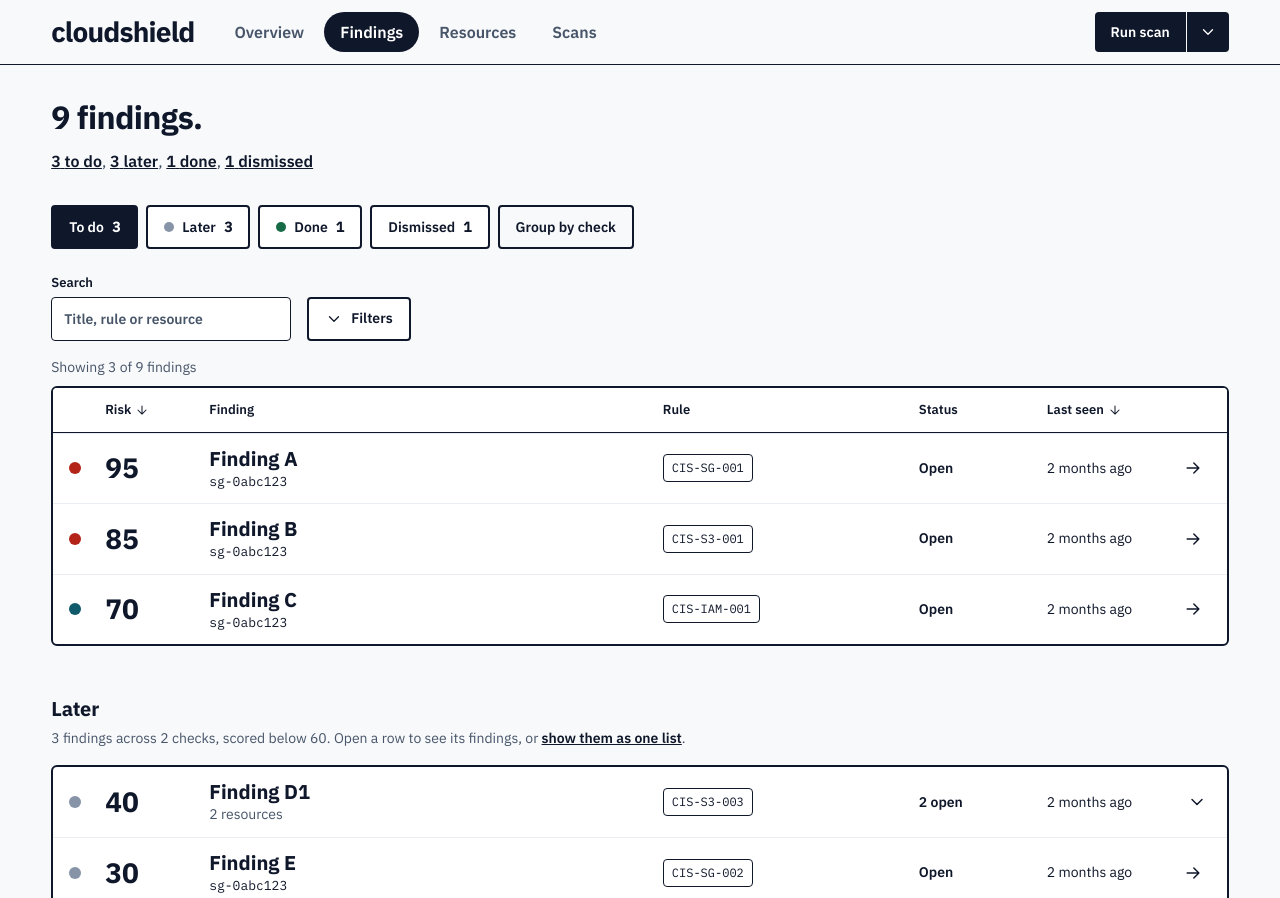
Findings: the Filters fold › shows how many filters are active on its label, and counts each once
This screenshot has width=1280, height=898.
Check: the table named "Findings" is shown, box [53, 388, 1227, 644]
Click the button "Filters" at point(359, 318), box [307, 296, 411, 340]
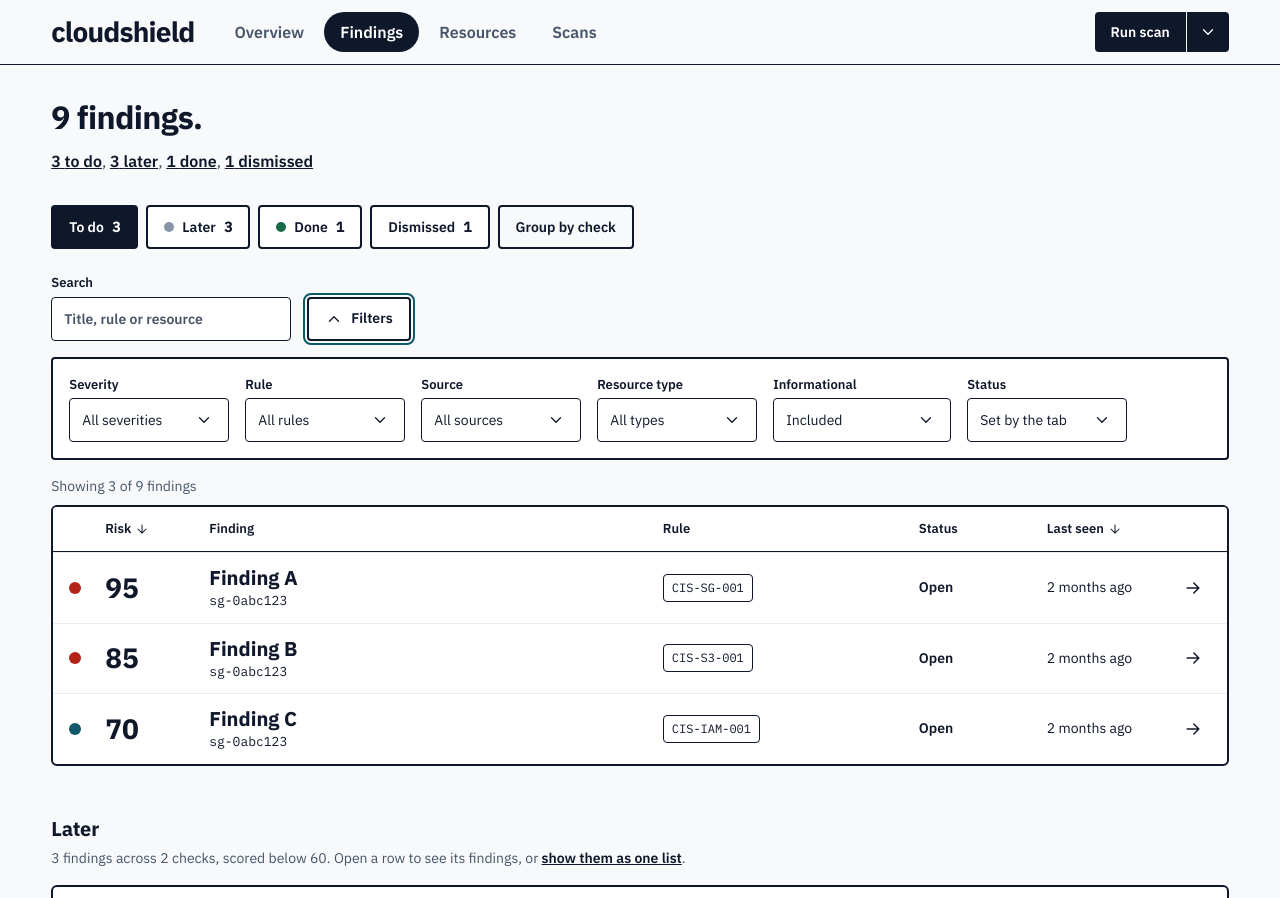
Select "MEDIUM" in the dropdown labelled "Severity" at point(149, 420), box [69, 398, 229, 442]
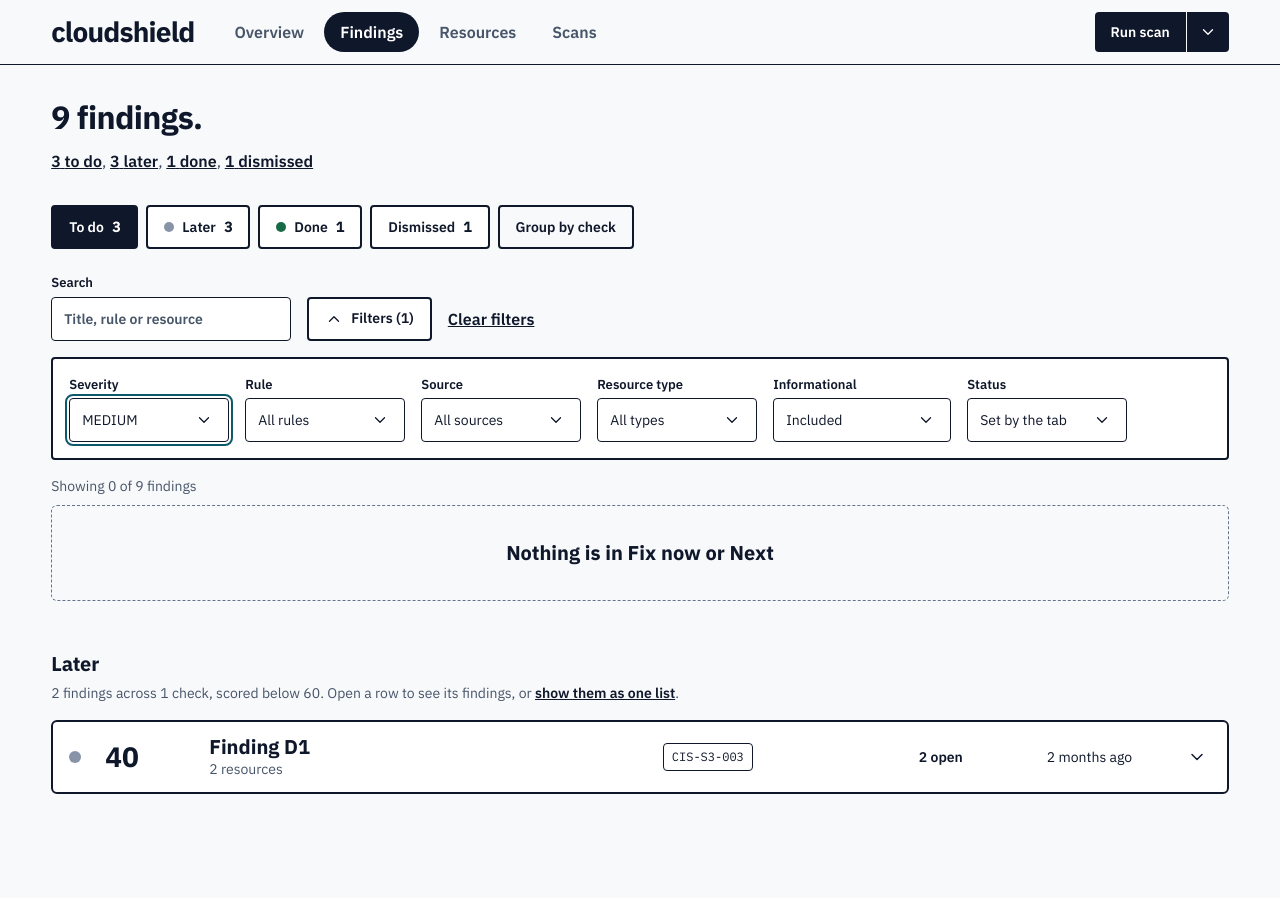
Check: the button "Filters (1)" is shown, box [307, 296, 432, 340]
Select "Open" in the dropdown labelled "Status" at point(1047, 420), box [967, 398, 1127, 442]
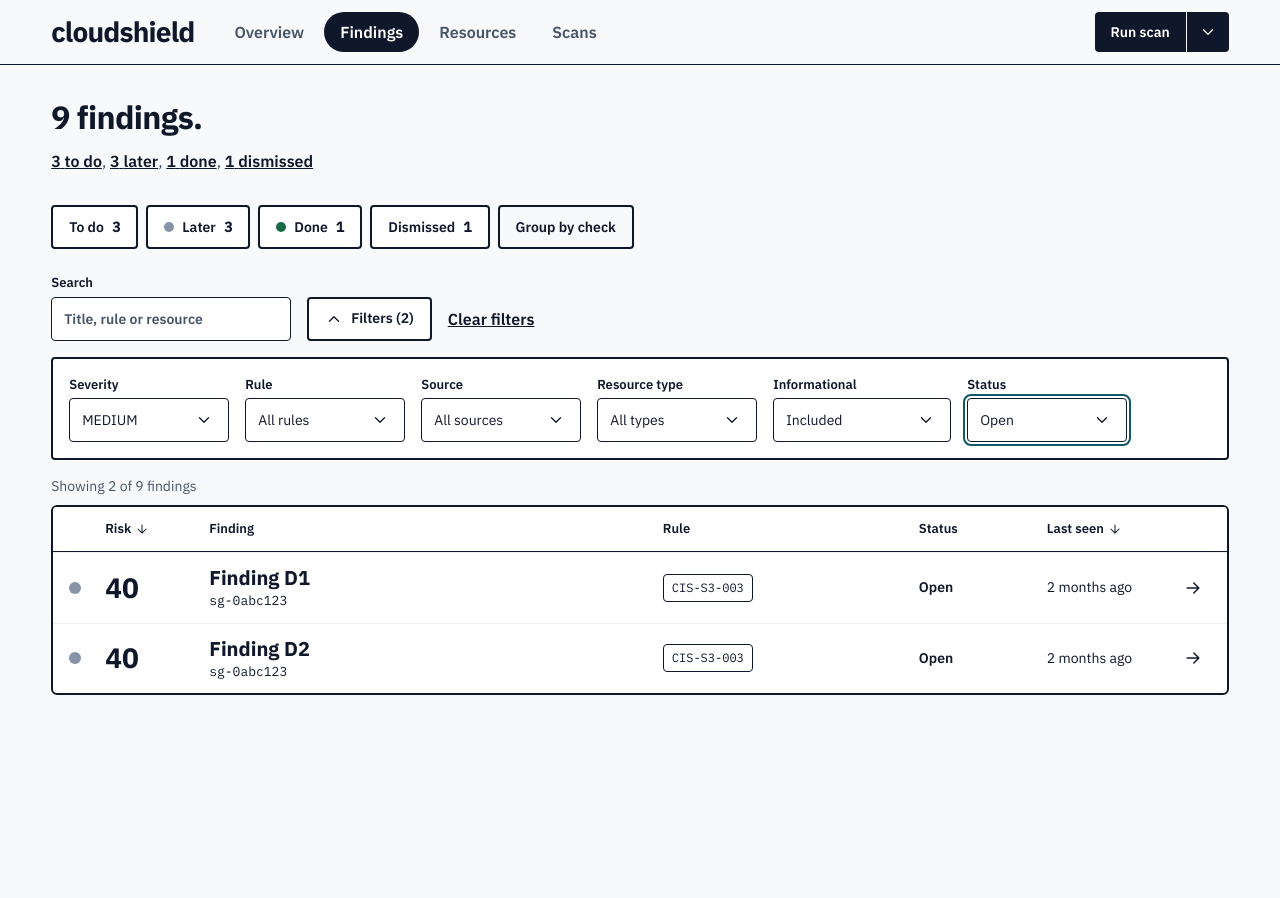
Check: the button "Filters (2)" is shown, box [307, 296, 432, 340]
Select "Hidden" in the dropdown labelled "Informational" at point(862, 420), box [773, 398, 951, 442]
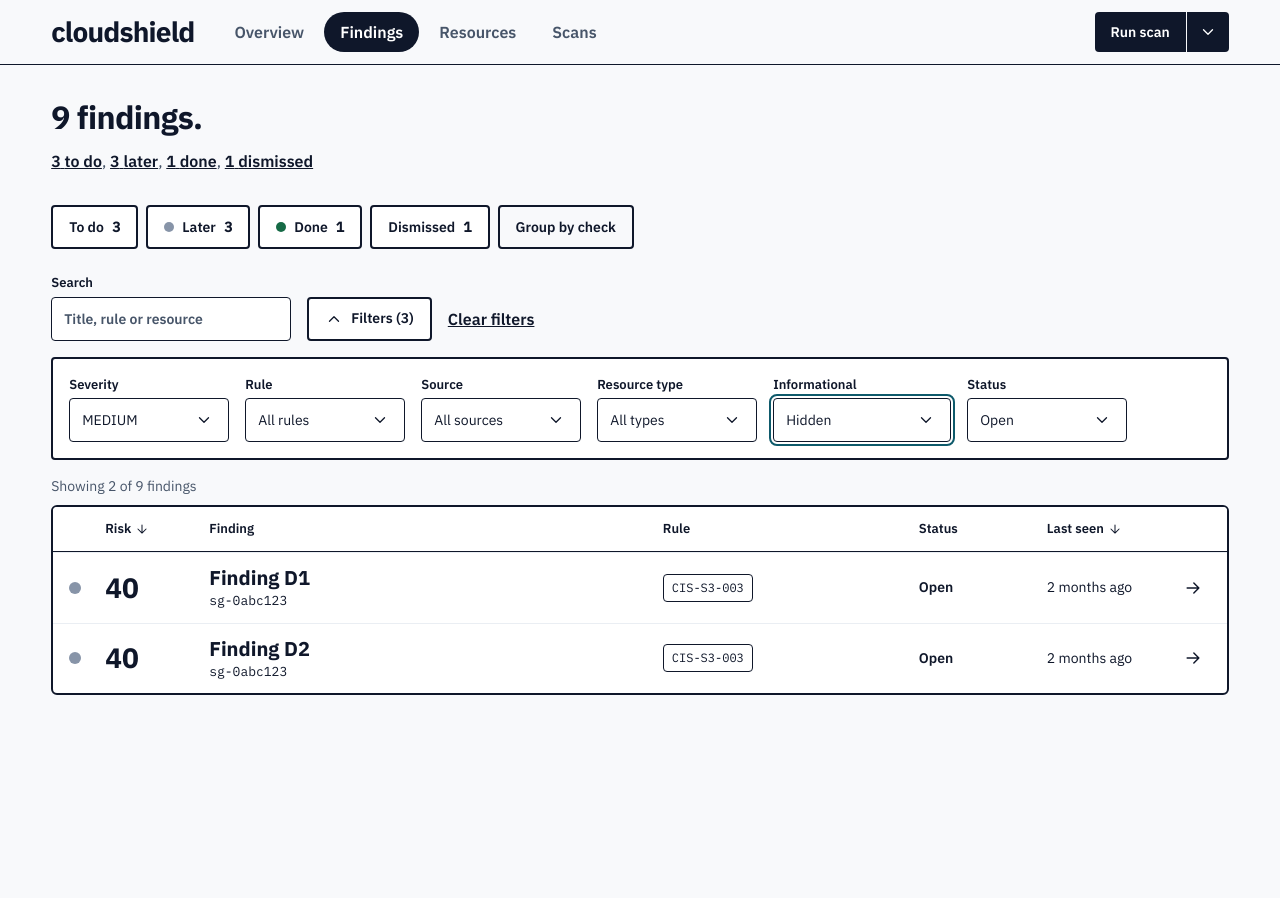
Check: the button "Filters (3)" is shown, box [307, 296, 432, 340]
